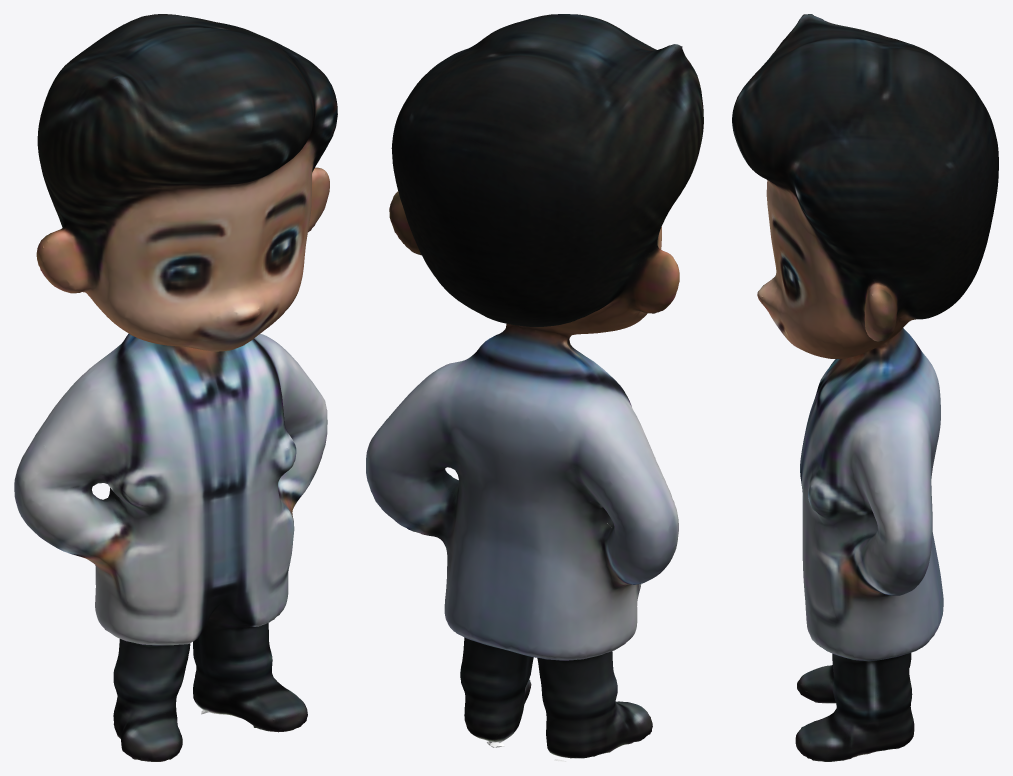
The model's file is doctor_3d.fbx.
The picture shows the model from 3 angles, left to right: view 1: azimuth 30°, elevation 25°; view 2: azimuth 150°, elevation 25°; view 3: azimuth 270°, elevation 25°; orthographic projection. The views are drawn at different scales.
Visible parts, largest first — view 1: mesh.obj_1; view 2: mesh.obj_1; view 3: mesh.obj_1.
Part boxes in pixels (x1,y1,x2,y2): mesh.obj_1: (14,14,337,761); mesh.obj_1: (366,14,703,761); mesh.obj_1: (732,14,998,761).
Bounding box in the file's own units: 0.484 × 1.06 × 0.3825.
1 material, 1 textured.
